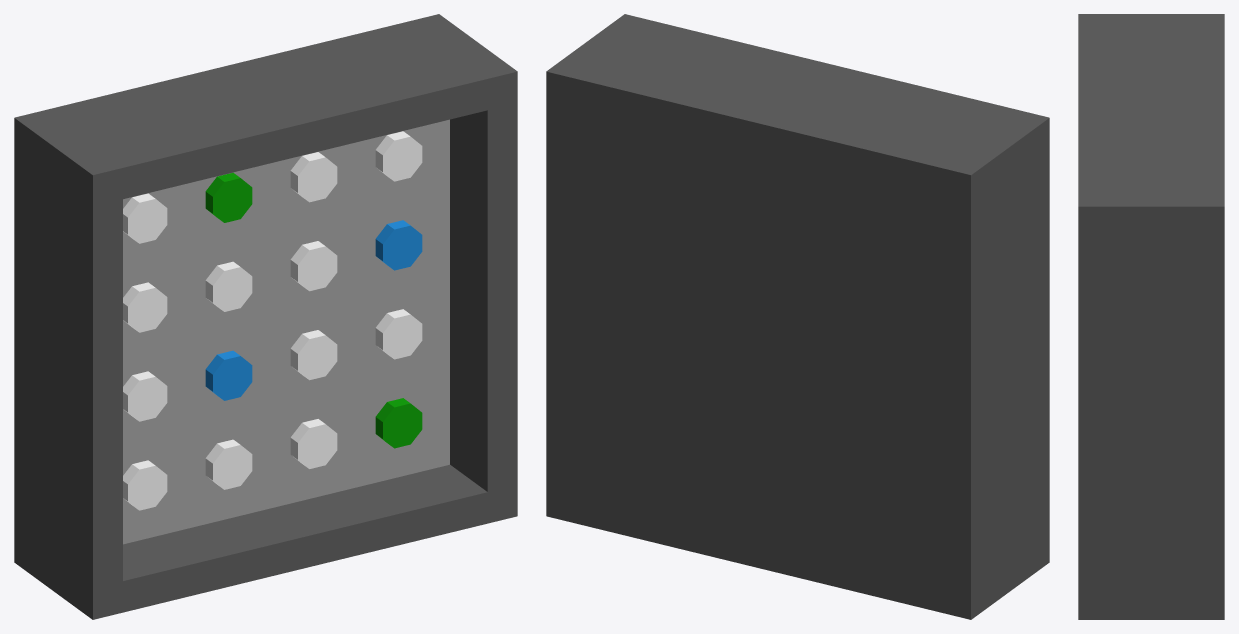
The model's file is ConnectX.fbx.
The picture shows the model from 3 angles, left to right: view 1: azimuth 30°, elevation 25°; view 2: azimuth 150°, elevation 25°; view 3: azimuth 270°, elevation 25°; orthographic projection. The views are drawn at different scales.
Parts seen in each view (by area): view 1: ConnectX; view 2: ConnectX; view 3: ConnectX.
Part boxes in pixels (<box>): ConnectX: <box>14,14,517,619</box>; ConnectX: <box>546,14,1049,619</box>; ConnectX: <box>1078,14,1224,619</box>.
Size of the model in its own units: 50 by 16.03 by 50.
